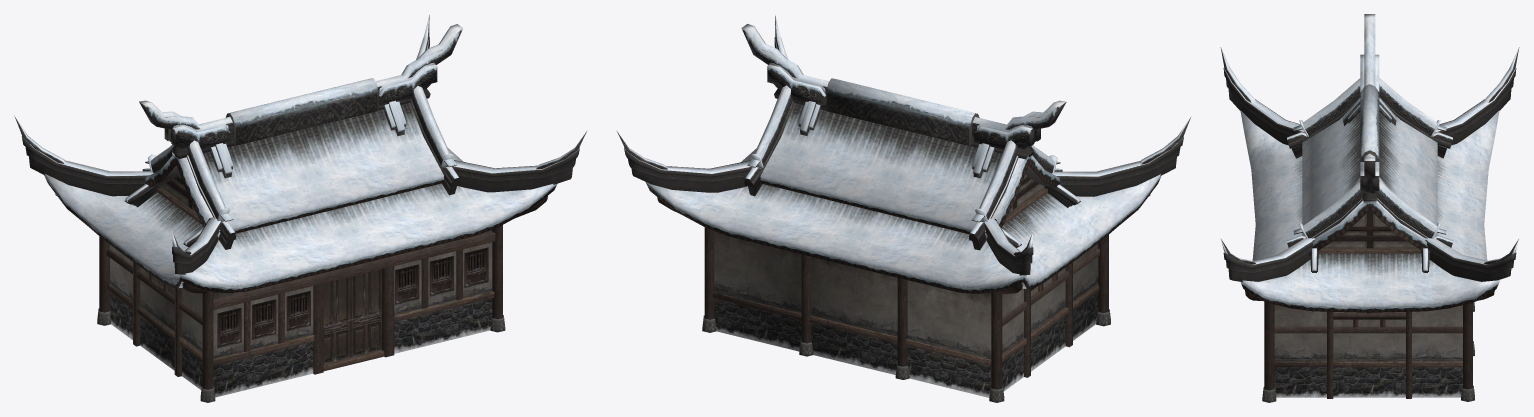
File: Snow house.FBX
3 renders of one model, left to right at view 1: azimuth 30°, elevation 25°; view 2: azimuth 150°, elevation 25°; view 3: azimuth 270°, elevation 25°, orthographic. The views are drawn at different scales.
Visible parts, largest first — view 1: Snow house; view 2: Snow house; view 3: Snow house.
Part boxes in pixels (x1,y1,x2,y2): Snow house: (14,14,586,402); Snow house: (617,15,1191,402); Snow house: (1220,14,1519,402).
Bounding box in the file's own units: 1838 × 1100 × 1212.
